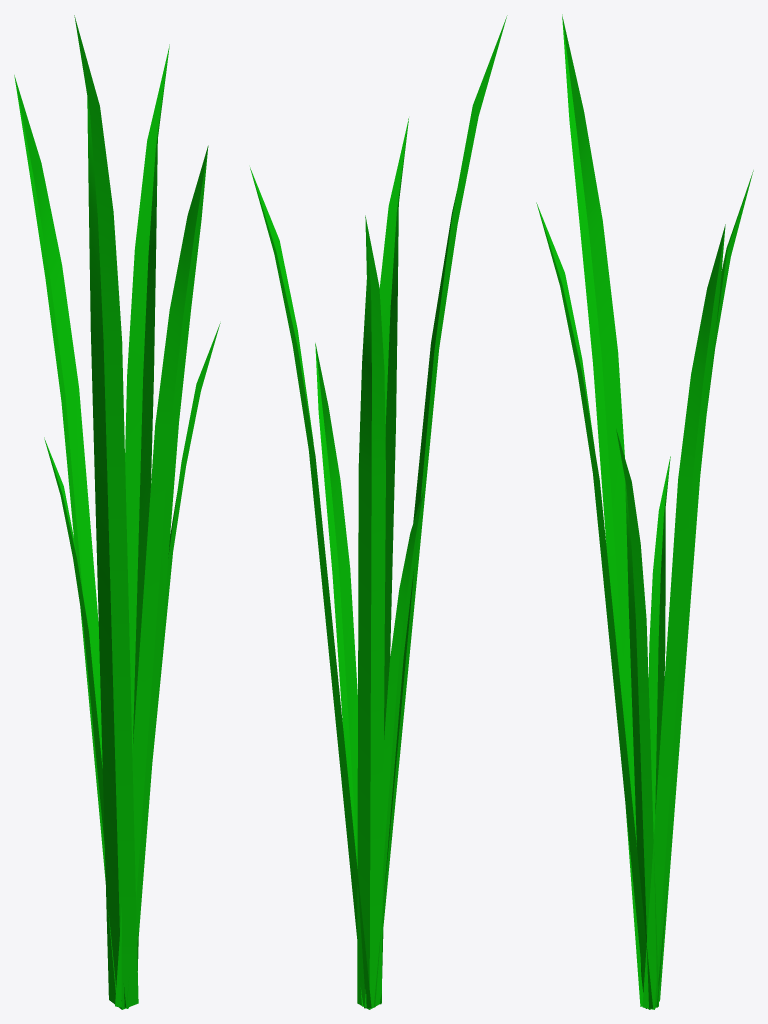
Rendered from TALL_GRASS.fbx.
3 views of the same model, side by side, from view 1: azimuth 30°, elevation 25°; view 2: azimuth 150°, elevation 25°; view 3: azimuth 270°, elevation 25° (orthographic). The views are drawn at different scales.
Visible parts, largest first — view 1: Plane038; view 2: Plane038; view 3: Plane038.
Part boxes in pixels (x1,y1,x2,y2): Plane038: [14, 15, 220, 1009]; Plane038: [250, 15, 507, 1009]; Plane038: [536, 14, 753, 1009].
Bounding box in the file's own units: 50.99 × 275 × 57.21.
